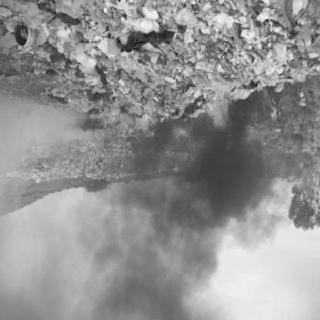Smoke: (88, 134, 278, 310)
